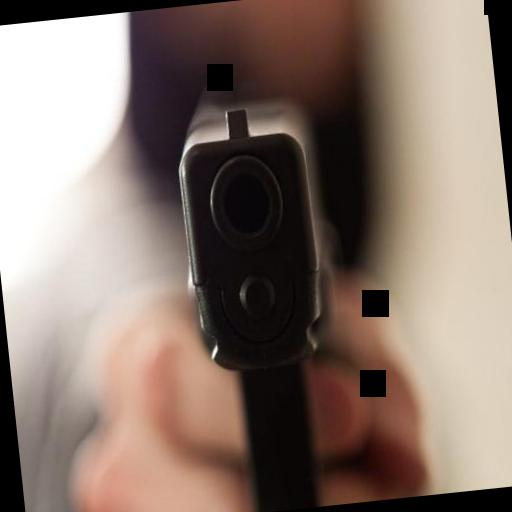Handgun: (162, 64, 358, 512)
